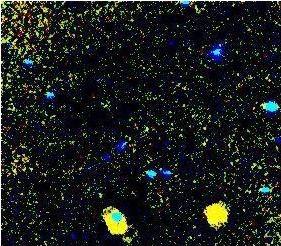star: (199, 196, 229, 226)
